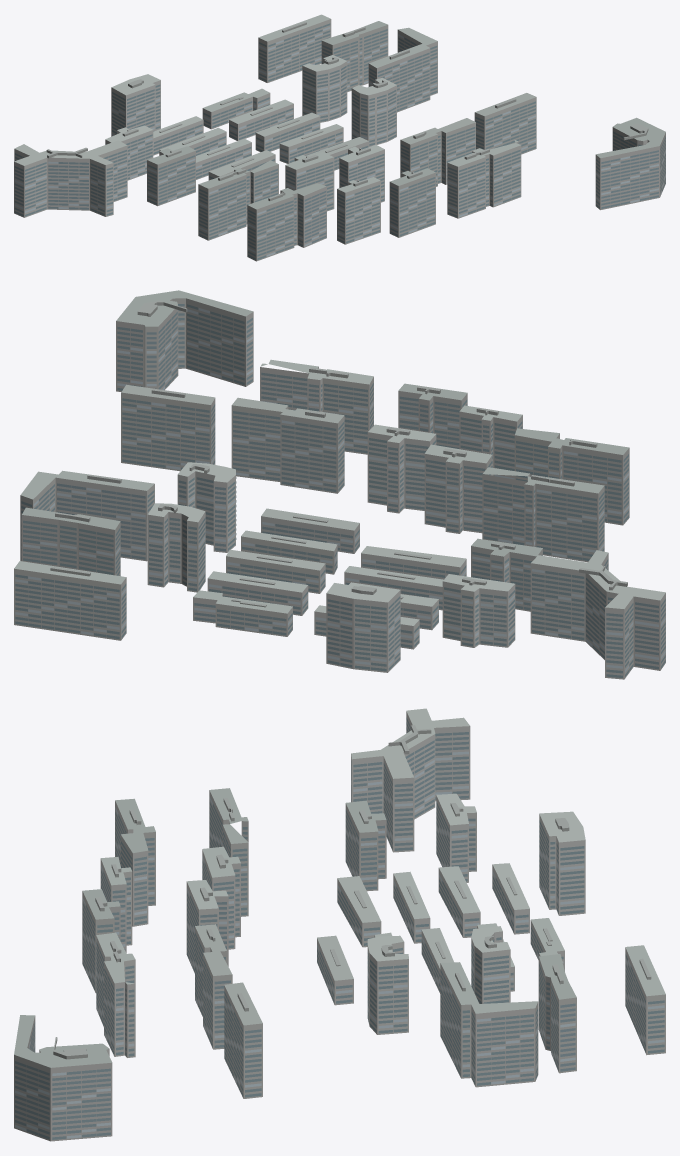
Rendered from apt-a13920804.glb.
The picture shows the model from 3 angles, top to bottom: view 1: azimuth 30°, elevation 25°; view 2: azimuth 150°, elevation 25°; view 3: azimuth 270°, elevation 25°; orthographic projection. The views are drawn at different scales.
Visible parts, largest first — view 1: apt-a13920804; view 2: apt-a13920804; view 3: apt-a13920804.
Part boxes in pixels (left/top/right/bottom): apt-a13920804: left=14, top=14, right=665, bottom=261; apt-a13920804: left=14, top=290, right=665, bottom=679; apt-a13920804: left=14, top=708, right=665, bottom=1141.
Bounding box in the file's own units: 479 × 47.81 × 367.
